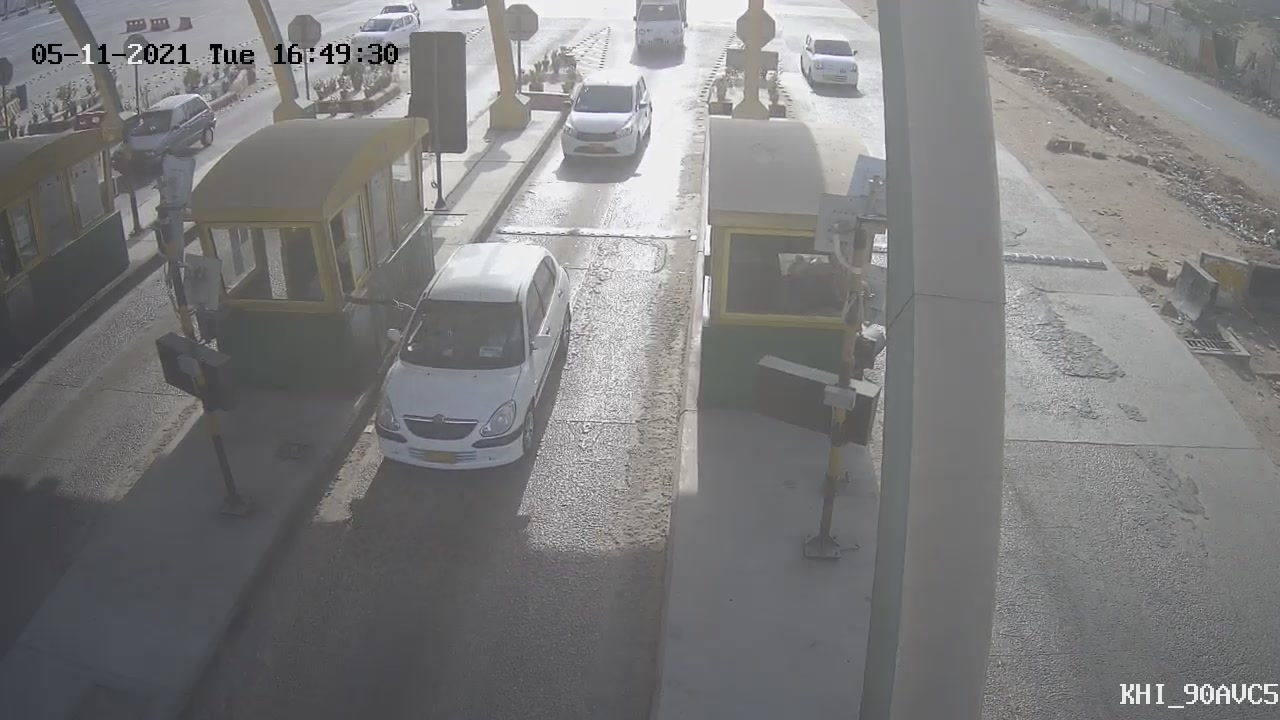F1: (352, 227, 594, 501), (546, 56, 666, 182)
